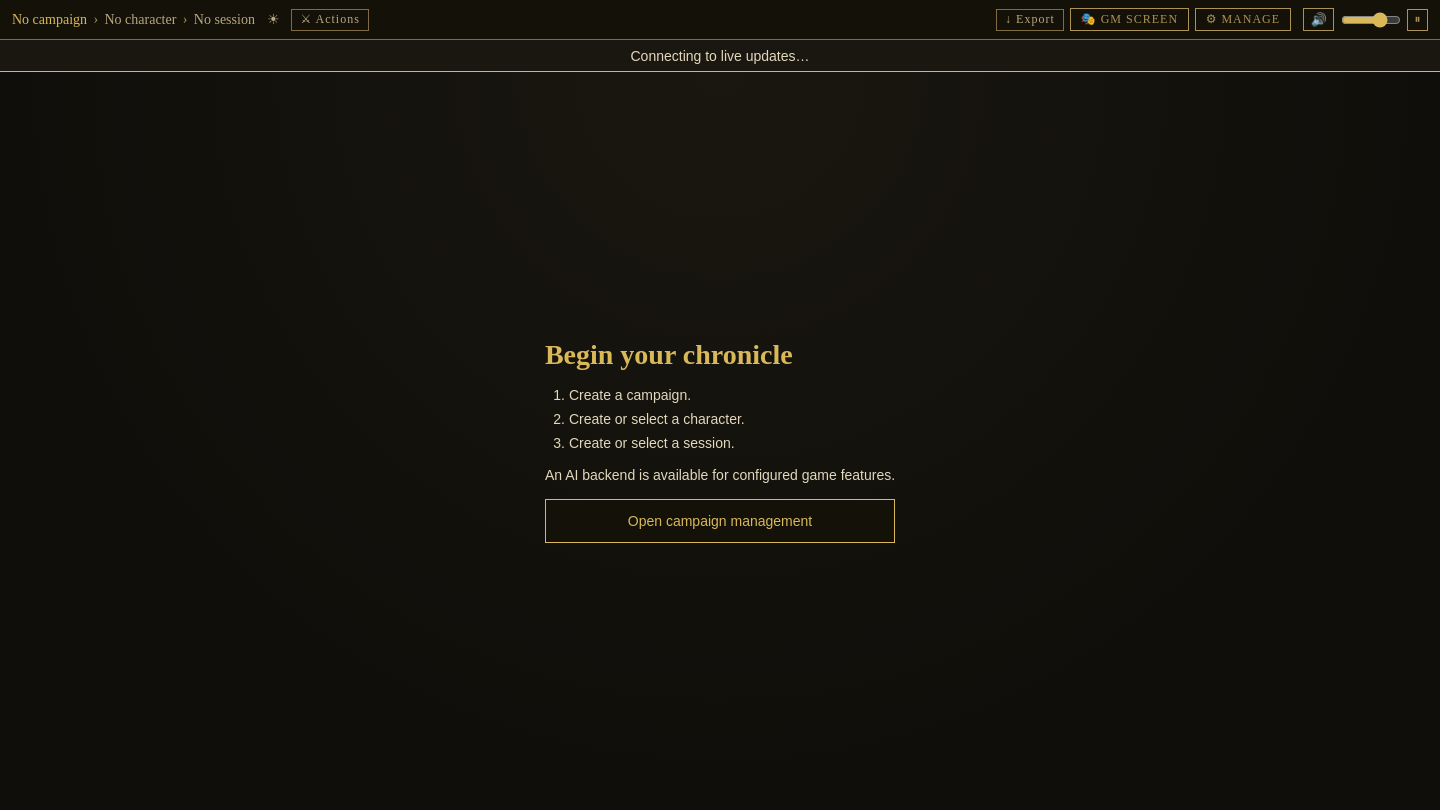
it: App › shows first-run steps and opens campaign management
Expected: the list item "Create a campaign." is shown, [569,387,691,403]
Expected: the list item "Create or select a character." is shown, [569,411,745,427]
Click the button "Open campaign management": click(720, 521) [545,499,895,543]
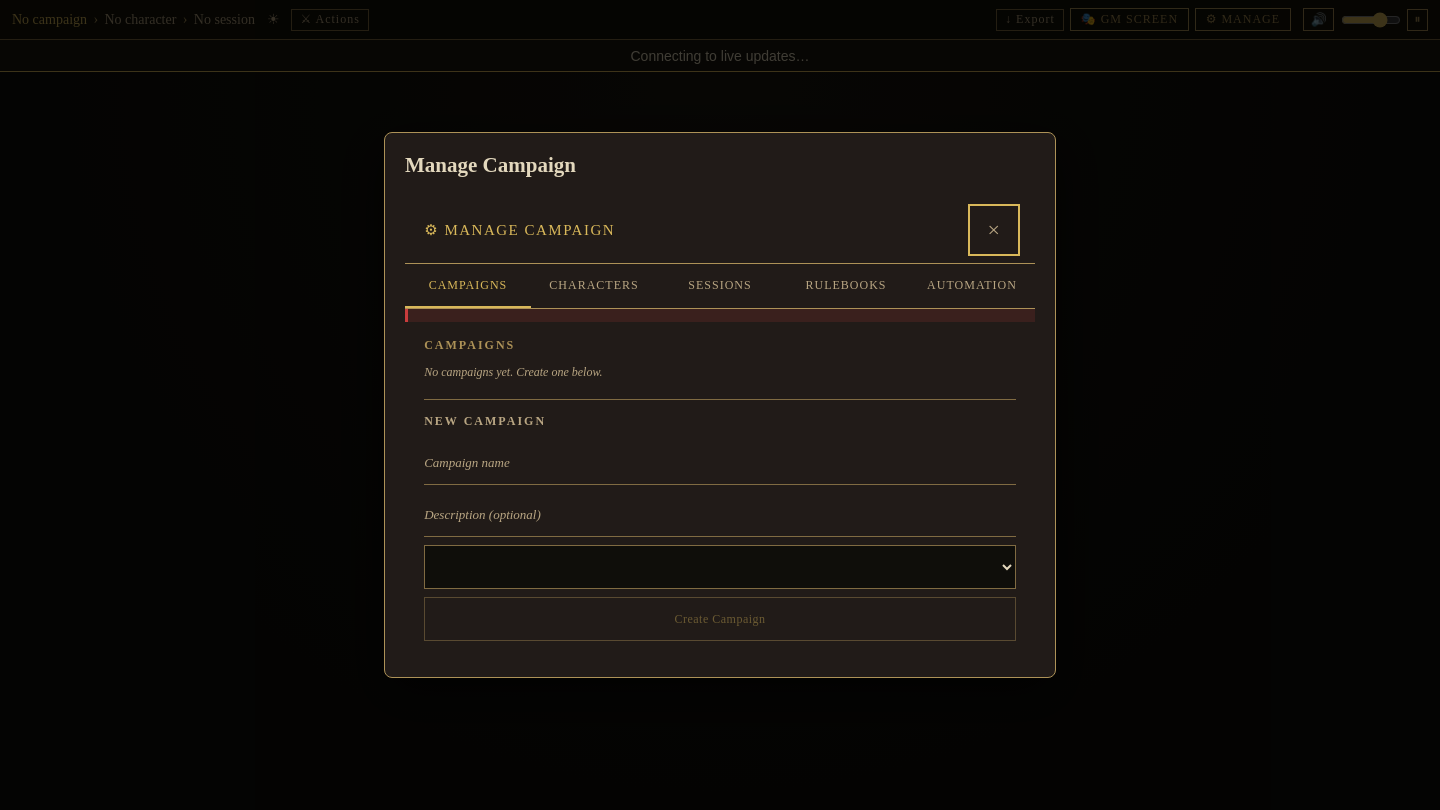
Expected: the dialog "Manage Campaign" is shown, [384,132,1056,678]
